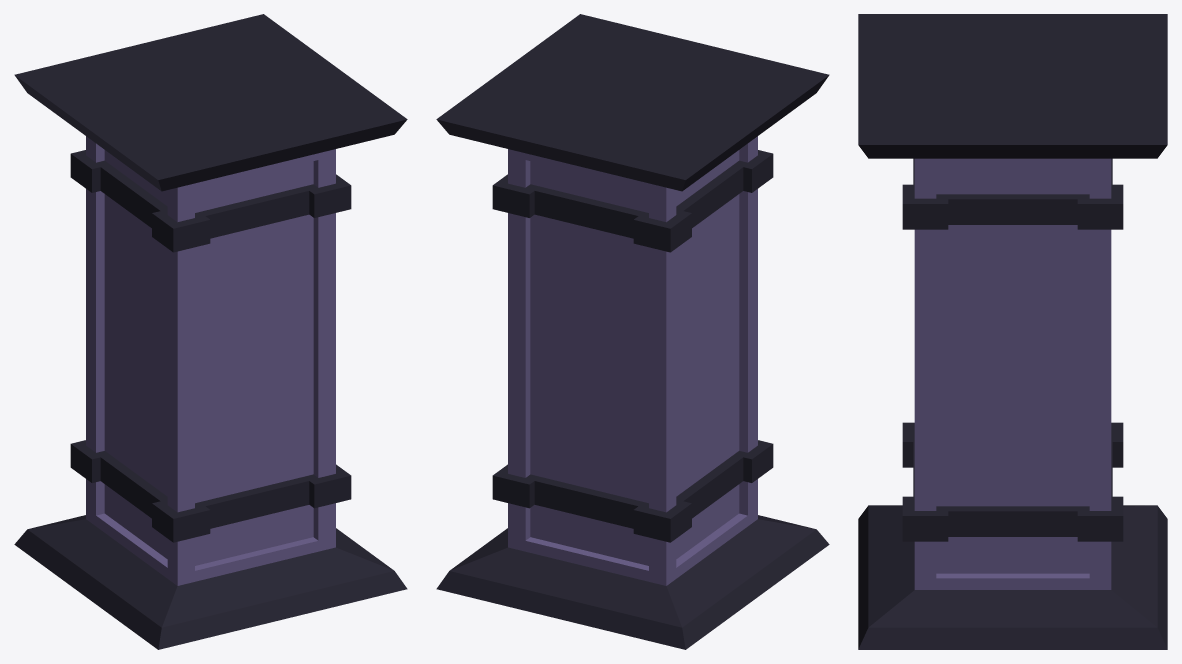
The model's file is Colon.fbx.
3 views of the same model, side by side, from view 1: azimuth 30°, elevation 25°; view 2: azimuth 150°, elevation 25°; view 3: azimuth 270°, elevation 25° (orthographic). The views are drawn at different scales.
Parts seen in each view (by area): view 1: Support_Colon; view 2: Support_Colon; view 3: Support_Colon.
Part boxes in pixels (x1,y1,x2,y2): Support_Colon: (14, 14, 407, 649); Support_Colon: (436, 14, 829, 649); Support_Colon: (858, 14, 1167, 649).
Bounding box in the file's own units: 2 × 3.6 × 2.
